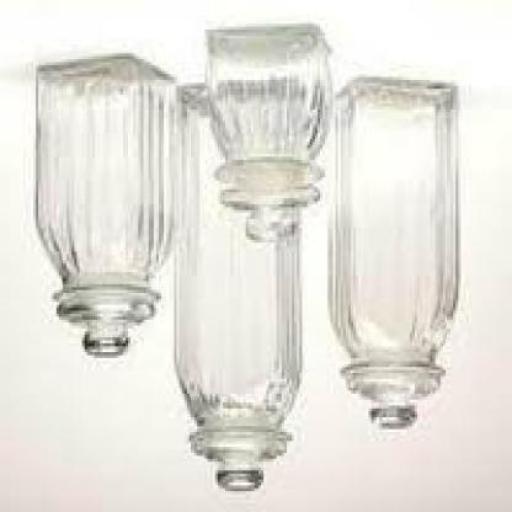glass: (177, 88, 302, 494), (328, 82, 463, 432), (41, 56, 179, 359), (210, 30, 335, 242)
